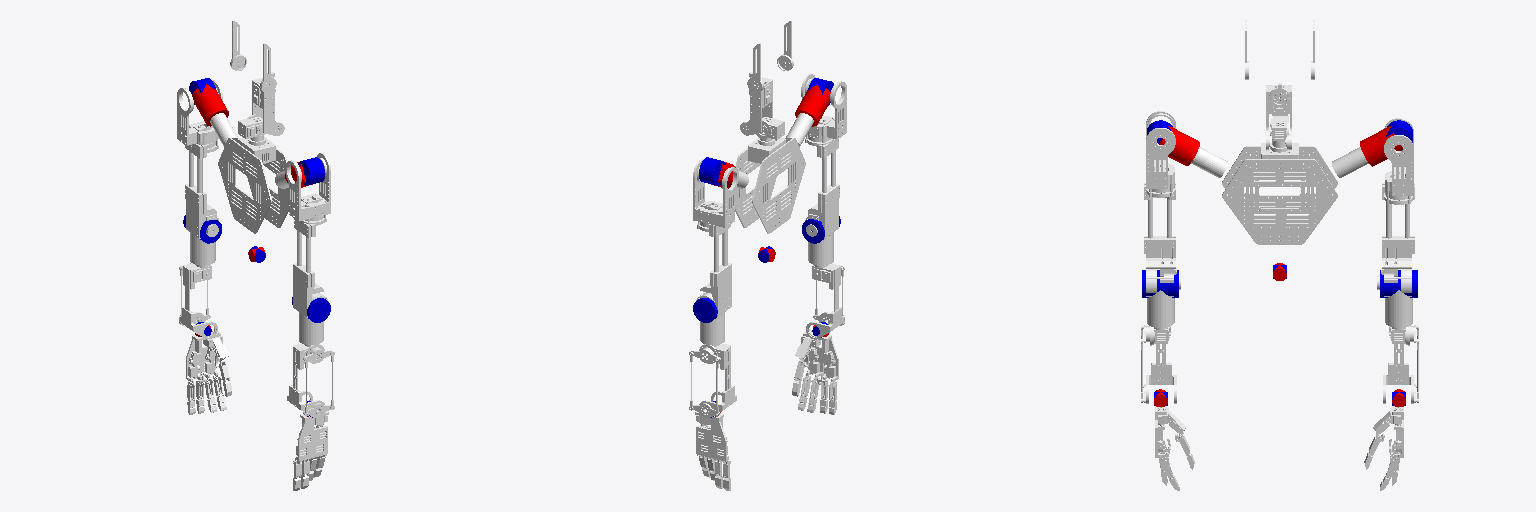
--- Render facts (derived) ---
The picture shows the robot from 3 angles, left to right: view 1: azimuth 30°, elevation 25°; view 2: azimuth 150°, elevation 25°; view 3: azimuth 270°, elevation 25°; orthographic projection.
Model rx1 with 34 links and 33 joints (22 revolute, 11 fixed), rooted at base_link, posed every joint at zero.
Visible links, largest first — view 1: torso_link, left_hand_link, right_hand_link, right_upper_arm_link, left_armrot_link, right_armrot_link, right_forearmrot_link, left_upper_arm_link, left_forearmrot_link, neck_pitch_link, left_shoul_link, neck_yaw_link (+2 smaller); view 2: torso_link, right_hand_link, left_hand_link, left_upper_arm_link, right_armrot_link, left_forearmrot_link, left_armrot_link, right_upper_arm_link, right_forearmrot_link, neck_pitch_link, right_shoul_link, right_forearm_link (+2 smaller); view 3: torso_link, right_armrot_link, right_upper_arm_link, left_armrot_link, left_upper_arm_link, right_forearmrot_link, left_forearmrot_link, right_hand_link, left_hand_link, neck_pitch_link, left_forearm_link, right_forearm_link (+5 smaller).
Boxes of the visible links, box(x1,y1,x2,y2) form: torso_link: box(218, 138, 288, 233); left_hand_link: box(186, 330, 231, 414); right_hand_link: box(293, 411, 328, 490); right_upper_arm_link: box(285, 153, 330, 225); left_armrot_link: box(185, 144, 218, 238); right_armrot_link: box(293, 219, 328, 317); right_forearmrot_link: box(287, 343, 334, 417); left_upper_arm_link: box(177, 80, 222, 152); left_forearmrot_link: box(179, 263, 217, 338); neck_pitch_link: box(252, 78, 284, 135); left_shoul_link: box(192, 84, 228, 126); neck_yaw_link: box(238, 114, 265, 145); torso_link: box(735, 138, 805, 233); right_hand_link: box(792, 330, 838, 414); left_hand_link: box(695, 411, 730, 490); left_upper_arm_link: box(693, 159, 738, 231); right_armrot_link: box(805, 139, 839, 238); left_forearmrot_link: box(689, 344, 736, 417); left_armrot_link: box(696, 224, 731, 316); right_upper_arm_link: box(801, 74, 846, 146); right_forearmrot_link: box(806, 263, 844, 339); neck_pitch_link: box(740, 77, 772, 135); right_shoul_link: box(795, 84, 830, 126); right_forearm_link: box(808, 231, 833, 265); torso_link: box(1222, 146, 1337, 244); right_armrot_link: box(1144, 183, 1180, 296); right_upper_arm_link: box(1146, 111, 1175, 197); left_armrot_link: box(1377, 183, 1414, 296); left_upper_arm_link: box(1384, 118, 1413, 204); right_forearmrot_link: box(1141, 325, 1176, 403); left_forearmrot_link: box(1383, 325, 1418, 403); right_hand_link: box(1155, 406, 1194, 490); left_hand_link: box(1364, 406, 1403, 490); neck_pitch_link: box(1266, 85, 1291, 149); left_forearm_link: box(1385, 290, 1412, 327); right_forearm_link: box(1147, 290, 1174, 327).
Bounding box of the posed robot: 0.1099 × 0.5942 × 1.08 m (x, y, z).
Meshes: 17 distinct files referenced, 14 mesh visuals loaded (14 binary STL); not drawn: 3 (reference not matched to a file when rendering).

robot.urdf — rx1:
<?xml version="1.0" ?>
<robot name="rx1" version="1.0">
  <material name="red">
    <color rgba="1.0 0.0 0.0 1.0"/>
  </material>
  <material name="white">
    <color rgba="1.0 1.0 1.0 1.0"/>
  </material>
  <material name="blue">
    <color rgba="0.0 0.0 1.0 1.0"/>
  </material>
  <link name="base_link">
    <inertial>
      <mass value="5.0"/>
      <inertia ixx="0.1479926256185778" ixy="0.0" ixz="0.0" iyy="0.1480031283986734" iyz="0.0" izz="0.013240506334916875"/>
    </inertial>
    <visual>
      <geometry>
        <mesh filename="package://rx1_description/meshes/base_link.stl"/>
      </geometry>
      <material name="white"/>
    </visual>
    <collision>
      <geometry>
        <mesh filename="package://rx1_description/meshes/base_link.stl"/>
      </geometry>
    </collision>
  </link>
  <link name="torso_yaw_link">
    <inertial>
      <mass value="5.0"/>
      <inertia ixx="0.044260708541198714" ixy="0.0" ixz="0.0" iyy="0.03589014892499002" iyz="0.0" izz="0.018270645342993348"/>
    </inertial>
    <visual>
      <origin rpy="0.0 0.0 0.0" xyz="0.0 0.0 0.0"/>
      <geometry>
        <mesh filename="package://rx1_description/meshes/torso_yaw_link.stl"/>
      </geometry>
      <material name="white"/>
    </visual>
    <collision>
      <origin rpy="0.0 0.0 0.0" xyz="0.0 0.0 0.0"/>
      <geometry>
        <mesh filename="package://rx1_description/meshes/torso_yaw_link.stl"/>
      </geometry>
    </collision>
  </link>
  <joint name="base2torso_yaw_joint" type="revolute">
    <origin rpy="0.0 0.0 0.0" xyz="0.0 0.0 0.5825"/>
    <axis xyz="0.0 0.0 1.0"/>
    <parent link="base_link"/>
    <child link="torso_yaw_link"/>
    <limit effort="50.0" lower="-1.57075" upper="1.57075" velocity="15.0"/>
    <dynamics damping="0.5" friction="5.0"/>
  </joint>
  <link name="torso_pitch_link">
    <inertial>
      <mass value="0.5"/>
      <inertia ixx="6.5625e-05" ixy="0.0" ixz="0.0" iyy="6.5625e-05" iyz="0.0" izz="5.625e-05"/>
    </inertial>
    <visual>
      <origin rpy="1.57075 0.0 0.0" xyz="0.0 0.0 0.0"/>
      <geometry>
        <cylinder length="0.03" radius="0.015"/>
      </geometry>
      <material name="blue"/>
    </visual>
    <collision>
      <origin rpy="1.57075 0.0 0.0" xyz="0.0 0.0 0.0"/>
      <geometry>
        <cylinder length="0.03" radius="0.01"/>
      </geometry>
    </collision>
  </link>
  <joint name="torso_yaw2pitch_joint" type="revolute">
    <origin rpy="0.0 0.0 0.0" xyz="0.0 0.0 0.15"/>
    <axis xyz="0.0 1.0 0.0"/>
    <parent link="torso_yaw_link"/>
    <child link="torso_pitch_link"/>
    <limit effort="50.0" lower="-0.785375" upper="0.785375" velocity="15.0"/>
    <dynamics damping="0.5" friction="0.1"/>
  </joint>
  <link name="torso_roll_link">
    <inertial>
      <mass value="0.5"/>
      <inertia ixx="6.5625e-05" ixy="0.0" ixz="0.0" iyy="6.5625e-05" iyz="0.0" izz="5.625e-05"/>
    </inertial>
    <visual>
      <origin rpy="0.0 1.57075 0.0" xyz="0.0 0.0 0.0"/>
      <geometry>
        <cylinder length="0.03" radius="0.015"/>
      </geometry>
      <material name="red"/>
    </visual>
    <collision>
      <origin rpy="0.0 1.57075 0.0" xyz="0.0 0.0 0.0"/>
      <geometry>
        <cylinder length="0.03" radius="0.01"/>
      </geometry>
    </collision>
  </link>
  <joint name="torso_pitch2roll_joint" type="revolute">
    <origin rpy="0.0 0.0 0.0" xyz="0.0 0.0 0.0"/>
    <axis xyz="1.0 0.0 0.0"/>
    <parent link="torso_pitch_link"/>
    <child link="torso_roll_link"/>
    <limit effort="50.0" lower="-0.785375" upper="0.785375" velocity="15.0"/>
    <dynamics damping="0.5" friction="0.1"/>
  </joint>
  <link name="torso_link">
    <inertial>
      <mass value="1.0"/>
      <inertia ixx="0.00839643176338393" ixy="0.0" ixz="0.0" iyy="0.003718667304595339" iyz="0.0" izz="0.005448431209219654"/>
    </inertial>
    <visual>
      <origin rpy="0.0 0.0 0.0" xyz="0.0 0.0 0.0"/>
      <geometry>
        <mesh filename="package://rx1_description/meshes/torso_link.stl"/>
      </geometry>
      <material name="white"/>
    </visual>
    <collision>
      <origin rpy="0.0 0.0 0.0" xyz="0.0 0.0 0.0"/>
      <geometry>
        <mesh filename="package://rx1_description/meshes/torso_link.stl"/>
      </geometry>
    </collision>
  </link>
  <joint name="torso_roll2torso_joint" type="fixed">
    <origin rpy="0.0 0.0 0.0" xyz="0.0 0.0 0.08"/>
    <parent link="torso_roll_link"/>
    <child link="torso_link"/>
  </joint>
  <link name="head_base_link">
    <inertial>
      <mass value="0.05"/>
      <inertia ixx="3.4733338386813986e-05" ixy="0.0" ixz="0.0" iyy="2.3066669137279266e-05" iyz="0.0" izz="4.1666671633720553e-05"/>
    </inertial>
    <visual>
      <origin rpy="0.0 0.0 0.0" xyz="0.0 0.0 0.0"/>
      <geometry>
        <mesh filename="package://rx1_description/meshes/head/head_base_link.stl"/>
      </geometry>
      <material name="white"/>
    </visual>
    <collision>
      <origin rpy="0.0 0.0 0.0" xyz="0.0 0.0 0.0"/>
      <geometry>
        <mesh filename="package://rx1_description/meshes/head/head_base_link.stl"/>
      </geometry>
    </collision>
  </link>
  <joint name="torso2head_base_joint" type="fixed">
    <origin rpy="0.0 0.0 0.0" xyz="0.0 0.0 0.21"/>
    <parent link="torso_link"/>
    <child link="head_base_link"/>
  </joint>
  <link name="neck_yaw_link">
    <inertial>
      <mass value="0.05"/>
      <inertia ixx="2.6332792163843353e-05" ixy="0.0" ixz="0.0" iyy="3.551715988694438e-05" iyz="0.0" izz="2.3884367326730143e-05"/>
    </inertial>
    <visual>
      <origin rpy="0.0 0.0 0.0" xyz="0.0 0.0 0.0"/>
      <geometry>
        <mesh filename="package://rx1_description/meshes/head/neck_yaw_link.stl"/>
      </geometry>
      <material name="white"/>
    </visual>
    <collision>
      <origin rpy="0.0 0.0 0.0" xyz="0.0 0.0 0.0"/>
      <geometry>
        <mesh filename="package://rx1_description/meshes/head/neck_yaw_link.stl"/>
      </geometry>
    </collision>
  </link>
  <joint name="head_base2neck_yaw_joint" type="revolute">
    <origin rpy="0.0 0.0 0.0" xyz="0.0 0.0 0.0"/>
    <axis xyz="0.0 0.0 1.0"/>
    <parent link="head_base_link"/>
    <child link="neck_yaw_link"/>
    <limit effort="50.0" lower="-1.57075" upper="1.57075" velocity="15.0"/>
    <dynamics damping="0.5" friction="0.1"/>
  </joint>
  <link name="neck_pitch_link">
    <inertial>
      <mass value="0.05"/>
      <inertia ixx="9.366899537678521e-05" ixy="0.0" ixz="0.0" iyy="9.765486239335953e-05" iyz="0.0" izz="2.9194203491569232e-05"/>
    </inertial>
    <visual>
      <origin rpy="0.0 0.0 0.0" xyz="0.0 0.0 0.0"/>
      <geometry>
        <mesh filename="package://rx1_description/meshes/head/neck_pitch_link.stl"/>
      </geometry>
      <material name="white"/>
    </visual>
    <collision>
      <origin rpy="0.0 0.0 0.0" xyz="0.0 0.0 0.0"/>
      <geometry>
        <mesh filename="package://rx1_description/meshes/head/neck_pitch_link.stl"/>
      </geometry>
    </collision>
  </link>
  <joint name="neck_yaw2pitch_joint" type="revolute">
    <origin rpy="0.0 0.0 0.0" xyz="0.0 0.0 0.035"/>
    <axis xyz="0.0 1.0 0.0"/>
    <parent link="neck_yaw_link"/>
    <child link="neck_pitch_link"/>
    <limit effort="50.0" lower="-1.57075" upper="1.57075" velocity="15.0"/>
    <dynamics damping="0.5" friction="0.1"/>
  </joint>
  <link name="head_depth_cam_mount_link">
    <inertial>
      <mass value="0.05"/>
      <inertia ixx="0.00011445736975046934" ixy="0.0" ixz="0.0" iyy="4.306387919284874e-05" iyz="0.0" izz="0.00011610652434354089"/>
    </inertial>
    <visual>
      <origin rpy="0.0 0.0 0.0" xyz="0.0 0.0 0.0"/>
      <geometry>
        <mesh filename="package://rx1_description/meshes/head/head_depth_cam_mount_link.stl"/>
      </geometry>
      <material name="white"/>
    </visual>
    <collision>
      <origin rpy="0.0 0.0 0.0" xyz="0.0 0.0 0.0"/>
      <geometry>
        <mesh filename="package://rx1_description/meshes/head/head_depth_cam_mount_link.stl"/>
      </geometry>
    </collision>
  </link>
  <joint name="neck_pitch2head_depth_cam_mount_joint" type="revolute">
    <origin rpy="0.0 0.0 0.0" xyz="-0.01 0.0 0.1"/>
    <axis xyz="1.0 0.0 0.0"/>
    <parent link="neck_pitch_link"/>
    <child link="head_depth_cam_mount_link"/>
    <limit effort="50.0" lower="-1.57075" upper="1.57075" velocity="15.0"/>
    <dynamics damping="0.1" friction="0.0"/>
  </joint>
  <link name="camera_link">
    <inertial>
      <mass value="0.05"/>
      <inertia ixx="8.333333333333333e-07" ixy="0.0" ixz="0.0" iyy="8.333333333333333e-07" iyz="0.0" izz="8.333333333333333e-07"/>
    </inertial>
    <visual>
      <origin rpy="0.0 0.0 0.0" xyz="0.0 0.0 0.0"/>
      <geometry>
        <box size="0.01 0.01 0.01"/>
      </geometry>
      <material name="white"/>
    </visual>
    <collision>
      <origin rpy="0.0 0.0 0.0" xyz="0.0 0.0 0.0"/>
      <geometry>
        <box size="0.01 0.01 0.01"/>
      </geometry>
    </collision>
  </link>
  <joint name="head_depth_cam_mount2camera_joint" type="fixed">
    <origin rpy="0.0 0.0 0.0" xyz="0.05 0.0 0.03"/>
    <parent link="head_depth_cam_mount_link"/>
    <child link="camera_link"/>
  </joint>
  <link name="right_ear_link">
    <inertial>
      <mass value="0.05"/>
      <inertia ixx="7.075414581789501e-05" ixy="0.0" ixz="0.0" iyy="7.708227986119268e-05" iyz="0.0" izz="7.00313496307216e-06"/>
    </inertial>
    <visual>
      <origin rpy="0.0 0.0 0.0" xyz="0.0 0.0 0.0"/>
      <geometry>
        <mesh filename="package://rx1_description/meshes/head/right_ear_link.stl"/>
      </geometry>
      <material name="white"/>
    </visual>
    <collision>
      <origin rpy="0.0 0.0 0.0" xyz="0.0 0.0 0.0"/>
      <geometry>
        <mesh filename="package://rx1_description/meshes/head/right_ear_link.stl"/>
      </geometry>
    </collision>
  </link>
  <joint name="head_depth_cam_mount2right_ear_joint" type="revolute">
    <origin rpy="0.0 0.0 0.0" xyz="0.0 -0.065 0.045"/>
    <axis xyz="0.0 1.0 0.0"/>
    <parent link="head_depth_cam_mount_link"/>
    <child link="right_ear_link"/>
    <limit effort="50.0" lower="-1.57075" upper="1.57075" velocity="15.0"/>
    <dynamics damping="0.1" friction="0.0"/>
  </joint>
  <link name="left_ear_link">
    <inertial>
      <mass value="0.05"/>
      <inertia ixx="7.075414588774426e-05" ixy="0.0" ixz="0.0" iyy="7.708227861952545e-05" iyz="0.0" izz="7.003133791254161e-06"/>
    </inertial>
    <visual>
      <origin rpy="0.0 0.0 0.0" xyz="0.0 0.0 0.0"/>
      <geometry>
        <mesh filename="package://rx1_description/meshes/head/left_ear_link.stl"/>
      </geometry>
      <material name="white"/>
    </visual>
    <collision>
      <origin rpy="0.0 0.0 0.0" xyz="0.0 0.0 0.0"/>
      <geometry>
        <mesh filename="package://rx1_description/meshes/head/left_ear_link.stl"/>
      </geometry>
    </collision>
  </link>
  <joint name="head_depth_cam_mount2left_ear_joint" type="revolute">
    <origin rpy="0.0 0.0 0.0" xyz="0.0 0.065 0.045"/>
    <axis xyz="0.0 1.0 0.0"/>
    <parent link="head_depth_cam_mount_link"/>
    <child link="left_ear_link"/>
    <limit effort="50.0" lower="-1.57075" upper="1.57075" velocity="15.0"/>
    <dynamics damping="0.1" friction="0.0"/>
  </joint>
  <link name="right_shoul_base_link">
    <inertial>
      <mass value="0.2"/>
      <inertia ixx="0.00011374999999999999" ixy="0.0" ixz="0.0" iyy="0.00011374999999999999" iyz="0.0" izz="4e-05"/>
    </inertial>
    <visual>
      <origin rpy="0.0 0.0 0.0" xyz="0.0 0.0 0.0375"/>
      <geometry>
        <cylinder length="0.075" radius="0.02"/>
      </geometry>
      <material name="white"/>
    </visual>
    <collision>
      <origin rpy="0.0 0.0 0.0" xyz="0.0 0.0 0.0375"/>
      <geometry>
        <cylinder length="0.075" radius="0.02"/>
      </geometry>
    </collision>
  </link>
  <joint name="head_base2right_shoul_base_joint" type="fixed">
    <origin rpy="1.04706195 0.0 0.0" xyz="0.0 -0.12 -0.05"/>
    <parent link="head_base_link"/>
    <child link="right_shoul_base_link"/>
  </joint>
  <link name="right_shoul_link">
    <inertial>
      <mass value="0.2"/>
      <inertia ixx="0.00015166666666666668" ixy="0.0" ixz="0.0" iyy="0.00015166666666666668" iyz="0.0" izz="9e-05"/>
    </inertial>
    <visual>
      <origin rpy="0.0 0.0 0.0" xyz="0.0 0.0 0.04"/>
      <geometry>
        <cylinder length="0.08" radius="0.03"/>
      </geometry>
      <material name="red"/>
    </visual>
    <collision>
      <origin rpy="0.0 0.0 0.0" xyz="0.0 0.0 0.04"/>
      <geometry>
        <cylinder length="0.08" radius="0.03"/>
      </geometry>
    </collision>
  </link>
  <joint name="right_shoul_base2shoul_joint" type="revolute">
    <origin rpy="0.0 0.0 0.0" xyz="0.0 0.0 0.075"/>
    <axis xyz="0.0 0.0 1.0"/>
    <parent link="right_shoul_base_link"/>
    <child link="right_shoul_link"/>
    <limit effort="50.0" lower="-2.5132000000000003" upper="2.5132000000000003" velocity="15.0"/>
    <dynamics damping="0.5" friction="0.1"/>
  </joint>
  <link name="right_shoul_rot_link">
    <inertial>
      <mass value="0.2"/>
      <inertia ixx="7.166666666666667e-05" ixy="0.0" ixz="0.0" iyy="7.166666666666667e-05" iyz="0.0" izz="9e-05"/>
    </inertial>
    <visual>
      <origin rpy="0.0 1.57075 0.0" xyz="0.0 0.0 0.0"/>
      <geometry>
        <cylinder length="0.04" radius="0.03"/>
      </geometry>
      <material name="blue"/>
    </visual>
    <collision>
      <origin rpy="0.0 1.57075 0.0" xyz="0.0 0.0 0.0"/>
      <geometry>
        <cylinder length="0.04" radius="0.03"/>
      </geometry>
    </collision>
  </link>
  <joint name="right_shoul2shoul_rot_joint" type="revolute">
    <origin rpy="-1.04706195 0.0 0.0" xyz="0.0 0.0 0.08"/>
    <axis xyz="1.0 0.0 0.0"/>
    <parent link="right_shoul_link"/>
    <child link="right_shoul_rot_link"/>
    <limit effort="50.0" lower="-1.57075" upper="0.5026400000000001" velocity="15.0"/>
    <dynamics damping="0.5" friction="0.1"/>
  </joint>
  <link name="right_upper_arm_link">
    <inertial>
      <mass value="0.1"/>
      <inertia ixx="0.00026469309370525756" ixy="0.0" ixz="0.0" iyy="0.000295128481794064" iyz="0.0" izz="9.863136459929792e-05"/>
    </inertial>
    <visual>
      <origin rpy="0.0 0.0 0.0" xyz="0.0 0.0 0.0"/>
      <geometry>
        <mesh filename="package://rx1_description/meshes/right_arm/right_upper_arm_link.stl"/>
      </geometry>
      <material name="white"/>
    </visual>
    <collision>
      <origin rpy="0.0 0.0 0.0" xyz="0.0 0.0 0.0"/>
      <geometry>
        <mesh filename="package://rx1_description/meshes/right_arm/right_upper_arm_link.stl"/>
      </geometry>
    </collision>
  </link>
  <joint name="right_shoul_rot2upper_arm_joint" type="fixed">
    <origin rpy="0.0 0.0 0.0" xyz="0.0 0.0 -0.0625"/>
    <parent link="right_shoul_rot_link"/>
    <child link="right_upper_arm_link"/>
  </joint>
  <link name="right_armrot_link">
    <inertial>
      <mass value="0.1"/>
      <inertia ixx="0.000573437191095085" ixy="0.0" ixz="0.0" iyy="0.0005528666733185454" iyz="0.0" izz="8.463719774696362e-05"/>
    </inertial>
    <visual>
      <origin rpy="0.0 0.0 0.0" xyz="0.0 0.0 -0.11"/>
      <geometry>
        <mesh filename="package://rx1_description/meshes/right_arm/right_elbow_link.stl"/>
      </geometry>
      <material name="white"/>
    </visual>
    <collision>
      <origin rpy="0.0 0.0 0.0" xyz="0.0 0.0 -0.11"/>
      <geometry>
        <cylinder length="0.22" radius="0.03"/>
      </geometry>
    </collision>
  </link>
  <joint name="right_arm2armrot_joint" type="revolute">
    <origin rpy="0.0 0.0 0.0" xyz="0.0 0.0 -0.0625"/>
    <axis xyz="0.0 0.0 1.0"/>
    <parent link="right_upper_arm_link"/>
    <child link="right_armrot_link"/>
    <limit effort="50.0" lower="-1.57075" upper="1.57075" velocity="15.0"/>
    <dynamics damping="0.1" friction="0.1"/>
  </joint>
  <link name="right_elbow_link">
    <inertial>
      <mass value="0.1"/>
      <inertia ixx="7.583333333333334e-05" ixy="0.0" ixz="0.0" iyy="7.583333333333334e-05" iyz="0.0" izz="4.5e-05"/>
    </inertial>
    <visual>
      <origin rpy="0.0 1.57075 -1.57075" xyz="0.0 0.0 0.0"/>
      <geometry>
        <cylinder length="0.08" radius="0.03"/>
      </geometry>
      <material name="blue"/>
    </visual>
    <collision>
      <origin rpy="0.0 1.57075 -1.57075" xyz="0.0 0.0 0.0"/>
      <geometry>
        <cylinder length="0.08" radius="0.03"/>
      </geometry>
    </collision>
  </link>
  <joint name="right_armrot2elbow_joint" type="revolute">
    <origin rpy="0.0 0.0 0.0" xyz="0.0 0.0 -0.22"/>
    <axis xyz="0.0 1.0 0.0"/>
    <parent link="right_armrot_link"/>
    <child link="right_elbow_link"/>
    <limit effort="50.0" lower="-2.19905" upper="0.0" velocity="15.0"/>
    <dynamics damping="0.1" friction="0.1"/>
  </joint>
  <link name="right_forearm_link">
    <inertial>
      <mass value="0.1"/>
      <inertia ixx="9e-05" ixy="0.0" ixz="0.0" iyy="9e-05" iyz="0.0" izz="4.5e-05"/>
    </inertial>
    <visual>
      <origin rpy="0.0 0.0 0.0" xyz="0.0 0.0 0.0"/>
      <geometry>
        <cylinder length="0.09" radius="0.03"/>
      </geometry>
      <material name="white"/>
    </visual>
    <collision>
      <origin rpy="0.0 0.0 0.0" xyz="0.0 0.0 0.0"/>
      <geometry>
        <cylinder length="0.09" radius="0.03"/>
      </geometry>
    </collision>
  </link>
  <joint name="right_elbow2forearm_joint" type="fixed">
    <origin rpy="0.0 0.0 0.0" xyz="0.0 0.0 -0.045"/>
    <parent link="right_elbow_link"/>
    <child link="right_forearm_link"/>
  </joint>
  <link name="right_forearmrot_link">
    <inertial>
      <mass value="0.1"/>
      <inertia ixx="0.00038840639708807395" ixy="0.0" ixz="0.0" iyy="0.00039995180679971244" iyz="0.0" izz="0.00011242609109381833"/>
    </inertial>
    <visual>
      <origin rpy="0.0 0.0 0.0" xyz="0.0 0.0 -0.09"/>
      <geometry>
        <mesh filename="package://rx1_description/meshes/right_arm/right_forearm_link.stl"/>
      </geometry>
      <material name="white"/>
    </visual>
    <collision>
      <origin rpy="0.0 0.0 0.0" xyz="0.0 0.0 -0.09"/>
      <geometry>
        <cylinder length="0.18" radius="0.015"/>
      </geometry>
    </collision>
  </link>
  <joint name="right_forearm2forearmrot_joint" type="revolute">
    <origin rpy="0.0 0.0 0.0" xyz="0.0 0.0 -0.045"/>
    <axis xyz="0.0 0.0 1.0"/>
    <parent link="right_forearm_link"/>
    <child link="right_forearmrot_link"/>
    <limit effort="50.0" lower="-1.57075" upper="1.57075" velocity="15.0"/>
    <dynamics damping="0.1" friction="0.1"/>
  </joint>
  <link name="right_forearm_pitch_link">
    <inertial>
      <mass value="0.1"/>
      <inertia ixx="1.3125e-05" ixy="0.0" ixz="0.0" iyy="1.3125e-05" iyz="0.0" izz="1.125e-05"/>
    </inertial>
    <visual>
      <origin rpy="1.57075 0.0 0.0" xyz="0.0 0.0 0.0"/>
      <geometry>
        <cylinder length="0.03" radius="0.015"/>
      </geometry>
      <material name="blue"/>
    </visual>
    <collision>
      <origin rpy="1.57075 0.0 0.0" xyz="0.0 0.0 0.0"/>
      <geometry>
        <cylinder length="0.03" radius="0.01"/>
      </geometry>
    </collision>
  </link>
  <joint name="right_forearmrot2forearm_pitch_joint" type="revolute">
    <origin rpy="0.0 0.0 0.0" xyz="0.0 0.0 -0.18"/>
    <axis xyz="0.0 1.0 0.0"/>
    <parent link="right_forearmrot_link"/>
    <child link="right_forearm_pitch_link"/>
    <limit effort="50.0" lower="-0.785375" upper="0.785375" velocity="15.0"/>
    <dynamics damping="0.1" friction="0.1"/>
  </joint>
  <link name="right_forearm_roll_link">
    <inertial>
      <mass value="0.1"/>
      <inertia ixx="1.3125e-05" ixy="0.0" ixz="0.0" iyy="1.3125e-05" iyz="0.0" izz="1.125e-05"/>
    </inertial>
    <visual>
      <origin rpy="0.0 1.57075 0.0" xyz="0.0 0.0 0.0"/>
      <geometry>
        <cylinder length="0.03" radius="0.015"/>
      </geometry>
      <material name="red"/>
    </visual>
    <collision>
      <origin rpy="0.0 1.57075 0.0" xyz="0.0 0.0 0.0"/>
      <geometry>
        <cylinder length="0.03" radius="0.01"/>
      </geometry>
    </collision>
  </link>
  <joint name="right_forearm_pitch2forearm_roll_joint" type="revolute">
    <origin rpy="0.0 0.0 0.0" xyz="0.0 0.0 0.0"/>
    <axis xyz="1.0 0.0 0.0"/>
    <parent link="right_forearm_pitch_link"/>
    <child link="right_forearm_roll_link"/>
    <limit effort="50.0" lower="-0.785375" upper="0.785375" velocity="15.0"/>
    <dynamics damping="0.1" friction="0.1"/>
  </joint>
  <link name="right_hand_link">
    <inertial>
      <mass value="0.1"/>
      <inertia ixx="0.00037829940287649005" ixy="0.0" ixz="0.0" iyy="0.00038270930455677987" iyz="0.0" izz="0.00012288547830465965"/>
    </inertial>
    <visual>
      <origin rpy="0.0 0.0 0.0" xyz="0.0 0.0 0.0"/>
      <geometry>
        <mesh filename="package://rx1_description/meshes/right_arm/right_hand_link.stl"/>
      </geometry>
      <material name="white"/>
    </visual>
    <collision>
      <origin rpy="0.0 0.0 0.0" xyz="0.0 0.0 0.0"/>
      <geometry>
        <box size="0.04 0.02 0.12"/>
      </geometry>
    </collision>
  </link>
  <joint name="right_forearm_roll2hand_joint" type="fixed">
    <origin rpy="0.0 0.0 0.0" xyz="0.0 0.0 -0.1"/>
    <parent link="right_forearm_roll_link"/>
    <child link="right_hand_link"/>
  </joint>
  <link name="left_shoul_base_link">
    <inertial>
      <mass value="0.2"/>
      <inertia ixx="0.00011374999999999999" ixy="0.0" ixz="0.0" iyy="0.00011374999999999999" iyz="0.0" izz="4e-05"/>
    </inertial>
    <visual>
      <origin rpy="0.0 0.0 0.0" xyz="0.0 0.0 0.0375"/>
      <geometry>
        <cylinder length="0.075" radius="0.02"/>
      </geometry>
      <material name="white"/>
    </visual>
    <collision>
      <origin rpy="0.0 0.0 0.0" xyz="0.0 0.0 0.0375"/>
      <geometry>
        <cylinder length="0.075" radius="0.02"/>
      </geometry>
    </collision>
  </link>
  <joint name="head_base2left_shoul_base_joint" type="fixed">
    <origin rpy="-1.04706195 0.0 0.0" xyz="0.0 0.12 -0.05"/>
    <parent link="head_base_link"/>
    <child link="left_shoul_base_link"/>
  </joint>
  <link name="left_shoul_link">
    <inertial>
      <mass value="0.2"/>
      <inertia ixx="0.00015166666666666668" ixy="0.0" ixz="0.0" iyy="0.00015166666666666668" iyz="0.0" izz="9e-05"/>
    </inertial>
    <visual>
      <origin rpy="0.0 0.0 0.0" xyz="0.0 0.0 0.04"/>
      <geometry>
        <cylinder length="0.08" radius="0.03"/>
      </geometry>
      <material name="red"/>
    </visual>
    <collision>
      <origin rpy="0.0 0.0 0.0" xyz="0.0 0.0 0.04"/>
      <geometry>
        <cylinder length="0.08" radius="0.03"/>
      </geometry>
    </collision>
  </link>
  <joint name="left_shoul_base2shoul_joint" type="revolute">
    <origin rpy="0.0 0.0 0.0" xyz="0.0 0.0 0.075"/>
    <axis xyz="0.0 0.0 1.0"/>
    <parent link="left_shoul_base_link"/>
    <child link="left_shoul_link"/>
    <limit effort="50.0" lower="-2.5132000000000003" upper="2.5132000000000003" velocity="15.0"/>
    <dynamics damping="0.5" friction="0.1"/>
  </joint>
  <link name="left_shoul_rot_link">
    <inertial>
      <mass value="0.2"/>
      <inertia ixx="7.166666666666667e-05" ixy="0.0" ixz="0.0" iyy="7.166666666666667e-05" iyz="0.0" izz="9e-05"/>
    </inertial>
    <visual>
      <origin rpy="0.0 1.57075 0.0" xyz="0.0 0.0 0.0"/>
      <geometry>
        <cylinder length="0.04" radius="0.03"/>
      </geometry>
      <material name="blue"/>
    </visual>
    <collision>
      <origin rpy="0.0 1.57075 0.0" xyz="0.0 0.0 0.0"/>
      <geometry>
        <cylinder length="0.04" radius="0.03"/>
      </geometry>
    </collision>
  </link>
  <joint name="left_shoul2shoul_rot_joint" type="revolute">
    <origin rpy="1.04706195 0.0 0.0" xyz="0.0 0.0 0.08"/>
    <axis xyz="1.0 0.0 0.0"/>
    <parent link="left_shoul_link"/>
    <child link="left_shoul_rot_link"/>
    <limit effort="50.0" lower="-0.5026400000000001" upper="1.57075" velocity="15.0"/>
    <dynamics damping="0.5" friction="0.1"/>
  </joint>
  <link name="left_upper_arm_link">
    <inertial>
      <mass value="0.1"/>
      <inertia ixx="0.00026469309370525756" ixy="0.0" ixz="0.0" iyy="0.000295128481794064" iyz="0.0" izz="9.863136459929792e-05"/>
    </inertial>
    <visual>
      <origin rpy="0.0 0.0 0.0" xyz="0.0 0.0 0.0"/>
      <geometry>
        <mesh filename="package://rx1_description/meshes/left_arm/left_upper_arm_link.stl"/>
      </geometry>
      <material name="white"/>
    </visual>
    <collision>
      <origin rpy="0.0 0.0 0.0" xyz="0.0 0.0 0.0"/>
      <geometry>
        <mesh filename="package://rx1_description/meshes/left_arm/left_upper_arm_link.stl"/>
      </geometry>
    </collision>
  </link>
  <joint name="left_shoul_rot2upper_arm_joint" type="fixed">
    <origin rpy="0.0 0.0 0.0" xyz="0.0 0.0 -0.0625"/>
    <parent link="left_shoul_rot_link"/>
    <child link="left_upper_arm_link"/>
  </joint>
  <link name="left_armrot_link">
    <inertial>
      <mass value="0.1"/>
      <inertia ixx="0.000573437191095085" ixy="0.0" ixz="0.0" iyy="0.0005528666771680125" iyz="0.0" izz="8.463720159643078e-05"/>
    </inertial>
    <visual>
      <origin rpy="0.0 0.0 0.0" xyz="0.0 0.0 -0.11"/>
      <geometry>
        <mesh filename="package://rx1_description/meshes/left_arm/left_elbow_link.stl"/>
      </geometry>
      <material name="white"/>
    </visual>
    <collision>
      <origin rpy="0.0 0.0 0.0" xyz="0.0 0.0 -0.11"/>
      <geometry>
        <cylinder length="0.22" radius="0.03"/>
      </geometry>
    </collision>
  </link>
  <joint name="left_arm2armrot_joint" type="revolute">
    <origin rpy="0.0 0.0 0.0" xyz="0.0 0.0 -0.0625"/>
    <axis xyz="0.0 0.0 1.0"/>
    <parent link="left_upper_arm_link"/>
    <child link="left_armrot_link"/>
    <limit effort="50.0" lower="-1.57075" upper="1.57075" velocity="15.0"/>
    <dynamics damping="0.1" friction="0.1"/>
  </joint>
  <link name="left_elbow_link">
    <inertial>
      <mass value="0.1"/>
      <inertia ixx="7.583333333333334e-05" ixy="0.0" ixz="0.0" iyy="7.583333333333334e-05" iyz="0.0" izz="4.5e-05"/>
    </inertial>
    <visual>
      <origin rpy="0.0 -1.57075 -1.57075" xyz="0.0 0.0 0.0"/>
      <geometry>
        <cylinder length="0.08" radius="0.03"/>
      </geometry>
      <material name="blue"/>
    </visual>
    <collision>
      <origin rpy="0.0 -1.57075 -1.57075" xyz="0.0 0.0 0.0"/>
      <geometry>
        <cylinder length="0.08" radius="0.03"/>
      </geometry>
    </collision>
  </link>
  <joint name="left_armrot2elbow_joint" type="revolute">
    <origin rpy="0.0 0.0 0.0" xyz="0.0 0.0 -0.22"/>
    <axis xyz="0.0 1.0 0.0"/>
    <parent link="left_armrot_link"/>
    <child link="left_elbow_link"/>
    <limit effort="50.0" lower="-2.19905" upper="0.0" velocity="15.0"/>
    <dynamics damping="0.1" friction="0.1"/>
  </joint>
  <link name="left_forearm_link">
    <inertial>
      <mass value="0.1"/>
      <inertia ixx="9e-05" ixy="0.0" ixz="0.0" iyy="9e-05" iyz="0.0" izz="4.5e-05"/>
    </inertial>
    <visual>
      <origin rpy="0.0 0.0 0.0" xyz="0.0 0.0 0.0"/>
      <geometry>
        <cylinder length="0.09" radius="0.03"/>
      </geometry>
      <material name="white"/>
    </visual>
    <collision>
      <origin rpy="0.0 0.0 0.0" xyz="0.0 0.0 0.0"/>
      <geometry>
        <cylinder length="0.09" radius="0.03"/>
      </geometry>
    </collision>
  </link>
  <joint name="left_elbow2forearm_joint" type="fixed">
    <origin rpy="0.0 0.0 0.0" xyz="0.0 0.0 -0.045"/>
    <parent link="left_elbow_link"/>
    <child link="left_forearm_link"/>
  </joint>
  <link name="left_forearmrot_link">
    <inertial>
      <mass value="0.1"/>
      <inertia ixx="0.00038840639708807395" ixy="0.0" ixz="0.0" iyy="0.00039995180679971244" iyz="0.0" izz="0.00011242609109381833"/>
    </inertial>
    <visual>
      <origin rpy="0.0 0.0 0.0" xyz="0.0 0.0 -0.09"/>
      <geometry>
        <mesh filename="package://rx1_description/meshes/left_arm/left_forearm_link.stl"/>
      </geometry>
      <material name="white"/>
    </visual>
    <collision>
      <origin rpy="0.0 0.0 0.0" xyz="0.0 0.0 -0.09"/>
      <geometry>
        <cylinder length="0.18" radius="0.015"/>
      </geometry>
    </collision>
  </link>
  <joint name="left_forearm2forearmrot_joint" type="revolute">
    <origin rpy="0.0 0.0 0.0" xyz="0.0 0.0 -0.045"/>
    <axis xyz="0.0 0.0 1.0"/>
    <parent link="left_forearm_link"/>
    <child link="left_forearmrot_link"/>
    <limit effort="50.0" lower="-1.57075" upper="1.57075" velocity="15.0"/>
    <dynamics damping="0.1" friction="0.1"/>
  </joint>
  <link name="left_forearm_pitch_link">
    <inertial>
      <mass value="0.1"/>
      <inertia ixx="1.3125e-05" ixy="0.0" ixz="0.0" iyy="1.3125e-05" iyz="0.0" izz="1.125e-05"/>
    </inertial>
    <visual>
      <origin rpy="-1.57075 0.0 0.0" xyz="0.0 0.0 0.0"/>
      <geometry>
        <cylinder length="0.03" radius="0.015"/>
      </geometry>
      <material name="blue"/>
    </visual>
    <collision>
      <origin rpy="-1.57075 0.0 0.0" xyz="0.0 0.0 0.0"/>
      <geometry>
        <cylinder length="0.03" radius="0.01"/>
      </geometry>
    </collision>
  </link>
  <joint name="left_forearmrot2forearm_pitch_joint" type="revolute">
    <origin rpy="0.0 0.0 0.0" xyz="0.0 0.0 -0.18"/>
    <axis xyz="0.0 1.0 0.0"/>
    <parent link="left_forearmrot_link"/>
    <child link="left_forearm_pitch_link"/>
    <limit effort="50.0" lower="-0.785375" upper="0.785375" velocity="15.0"/>
    <dynamics damping="0.1" friction="0.1"/>
  </joint>
  <link name="left_forearm_roll_link">
    <inertial>
      <mass value="0.1"/>
      <inertia ixx="1.3125e-05" ixy="0.0" ixz="0.0" iyy="1.3125e-05" iyz="0.0" izz="1.125e-05"/>
    </inertial>
    <visual>
      <origin rpy="0.0 -1.57075 0.0" xyz="0.0 0.0 0.0"/>
      <geometry>
        <cylinder length="0.03" radius="0.015"/>
      </geometry>
      <material name="red"/>
    </visual>
    <collision>
      <origin rpy="0.0 -1.57075 0.0" xyz="0.0 0.0 0.0"/>
      <geometry>
        <cylinder length="0.03" radius="0.01"/>
      </geometry>
    </collision>
  </link>
  <joint name="left_forearm_pitch2forearm_roll_joint" type="revolute">
    <origin rpy="0.0 0.0 0.0" xyz="0.0 0.0 0.0"/>
    <axis xyz="1.0 0.0 0.0"/>
    <parent link="left_forearm_pitch_link"/>
    <child link="left_forearm_roll_link"/>
    <limit effort="50.0" lower="-0.785375" upper="0.785375" velocity="15.0"/>
    <dynamics damping="0.1" friction="0.1"/>
  </joint>
  <link name="left_hand_link">
    <inertial>
      <mass value="0.1"/>
      <inertia ixx="0.000378299413346062" ixy="0.0" ixz="0.0" iyy="0.00038270929370450474" iyz="0.0" izz="0.00012288547792195653"/>
    </inertial>
    <visual>
      <origin rpy="0.0 0.0 0.0" xyz="0.0 0.0 0.0"/>
      <geometry>
        <mesh filename="package://rx1_description/meshes/left_arm/left_hand_link.stl"/>
      </geometry>
      <material name="white"/>
    </visual>
    <collision>
      <origin rpy="0.0 0.0 0.0" xyz="0.0 0.0 0.0"/>
      <geometry>
        <box size="0.04 0.02 0.12"/>
      </geometry>
    </collision>
  </link>
  <joint name="left_forearm_roll2hand_joint" type="fixed">
    <origin rpy="0.0 0.0 0.0" xyz="0.0 0.0 -0.1"/>
    <parent link="left_forearm_roll_link"/>
    <child link="left_hand_link"/>
  </joint>
</robot>
